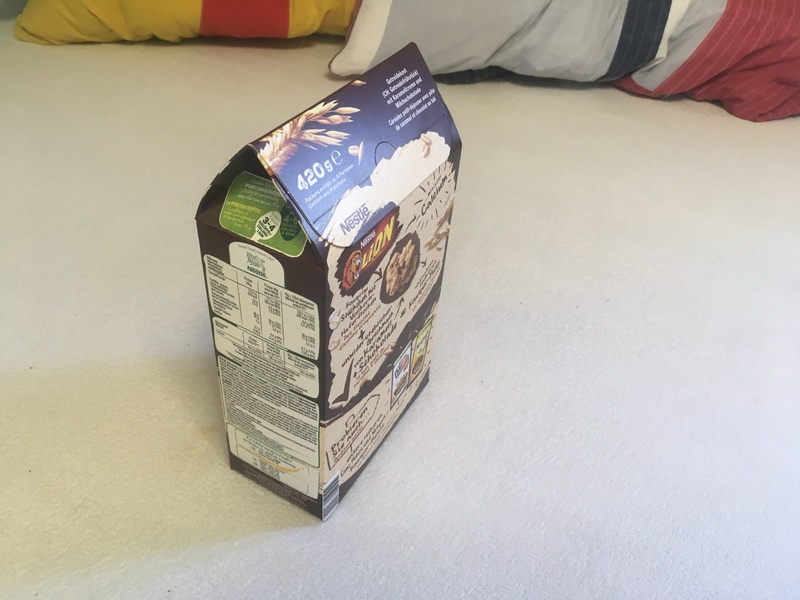cereals: (195, 42, 463, 523)
